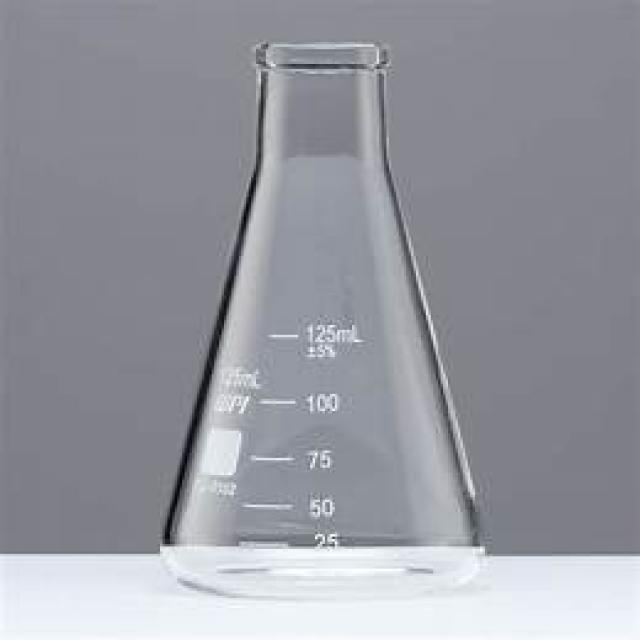Titrarion: (154, 37, 491, 600)
